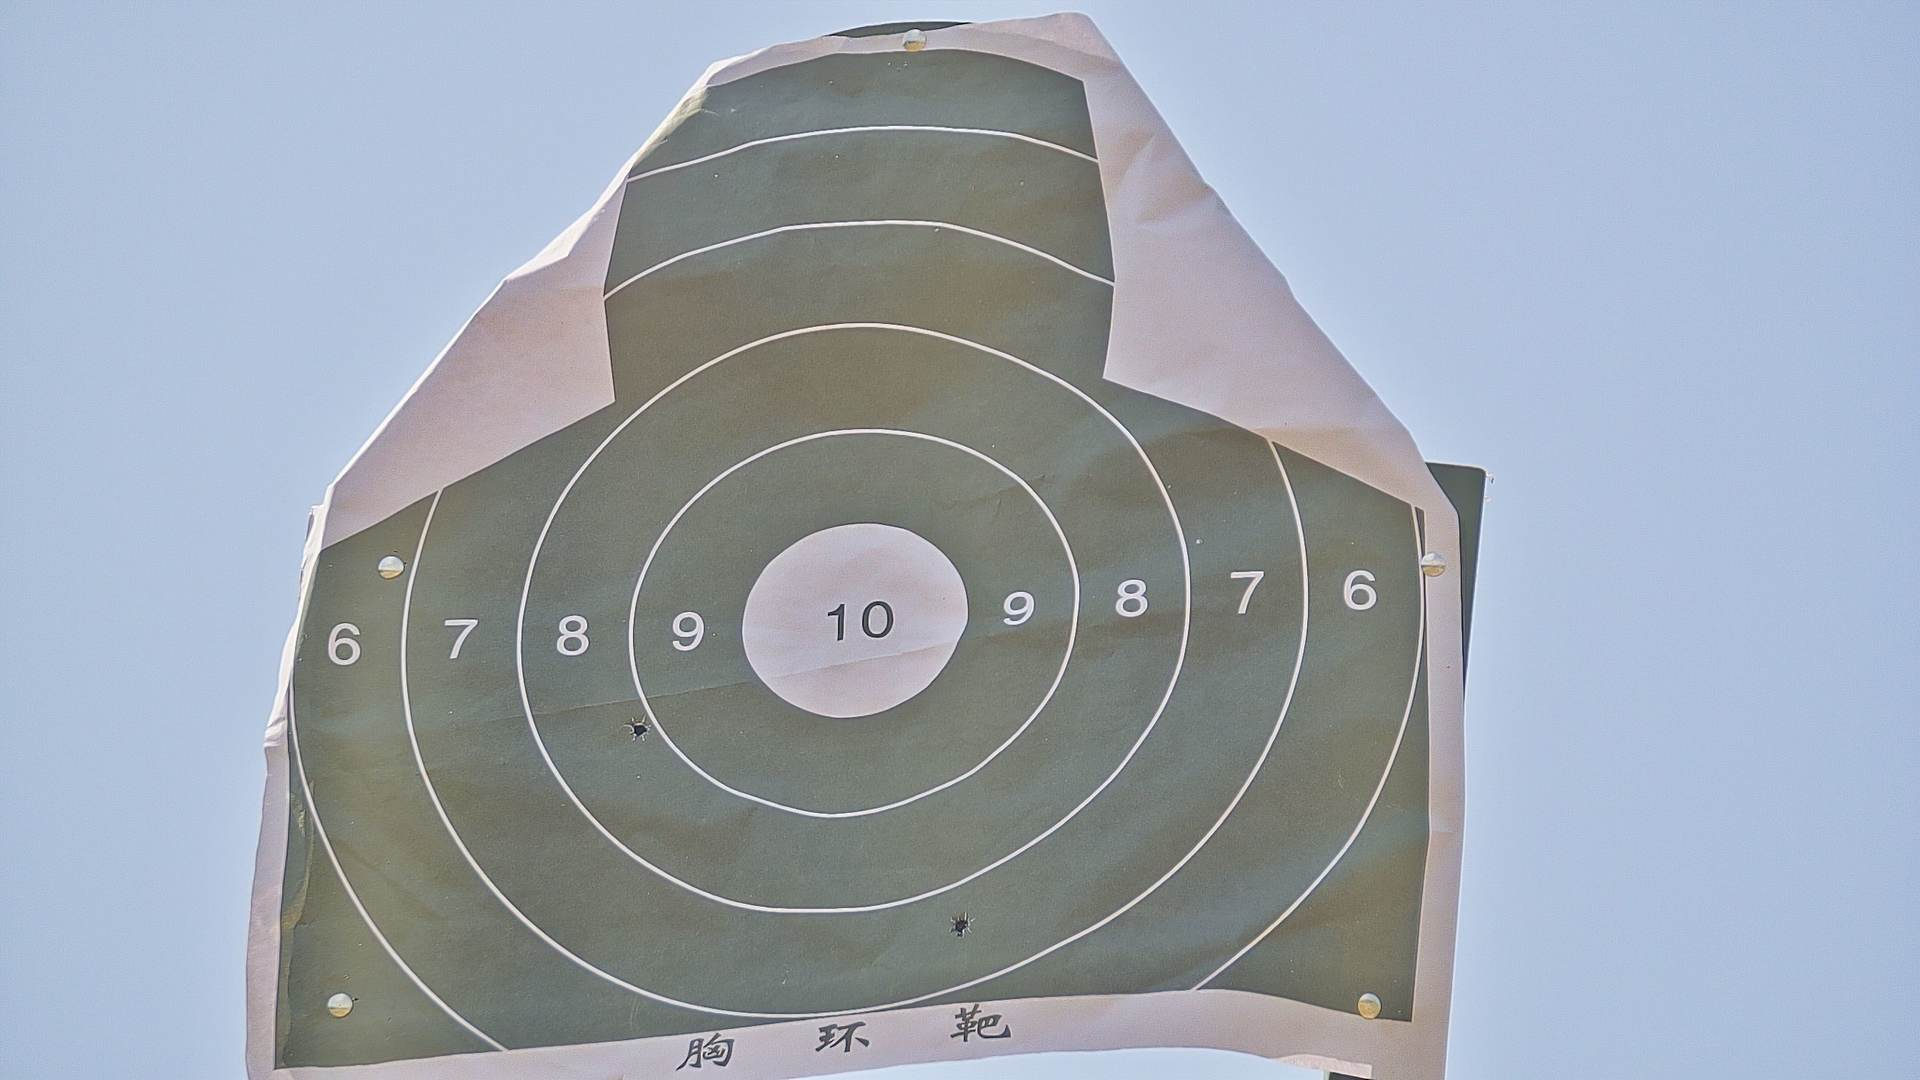hole: (952, 918, 971, 935), (632, 723, 650, 738)
kernel: (848, 620, 857, 624)
target: (272, 53, 1427, 1067)
ten: (738, 522, 975, 717)
